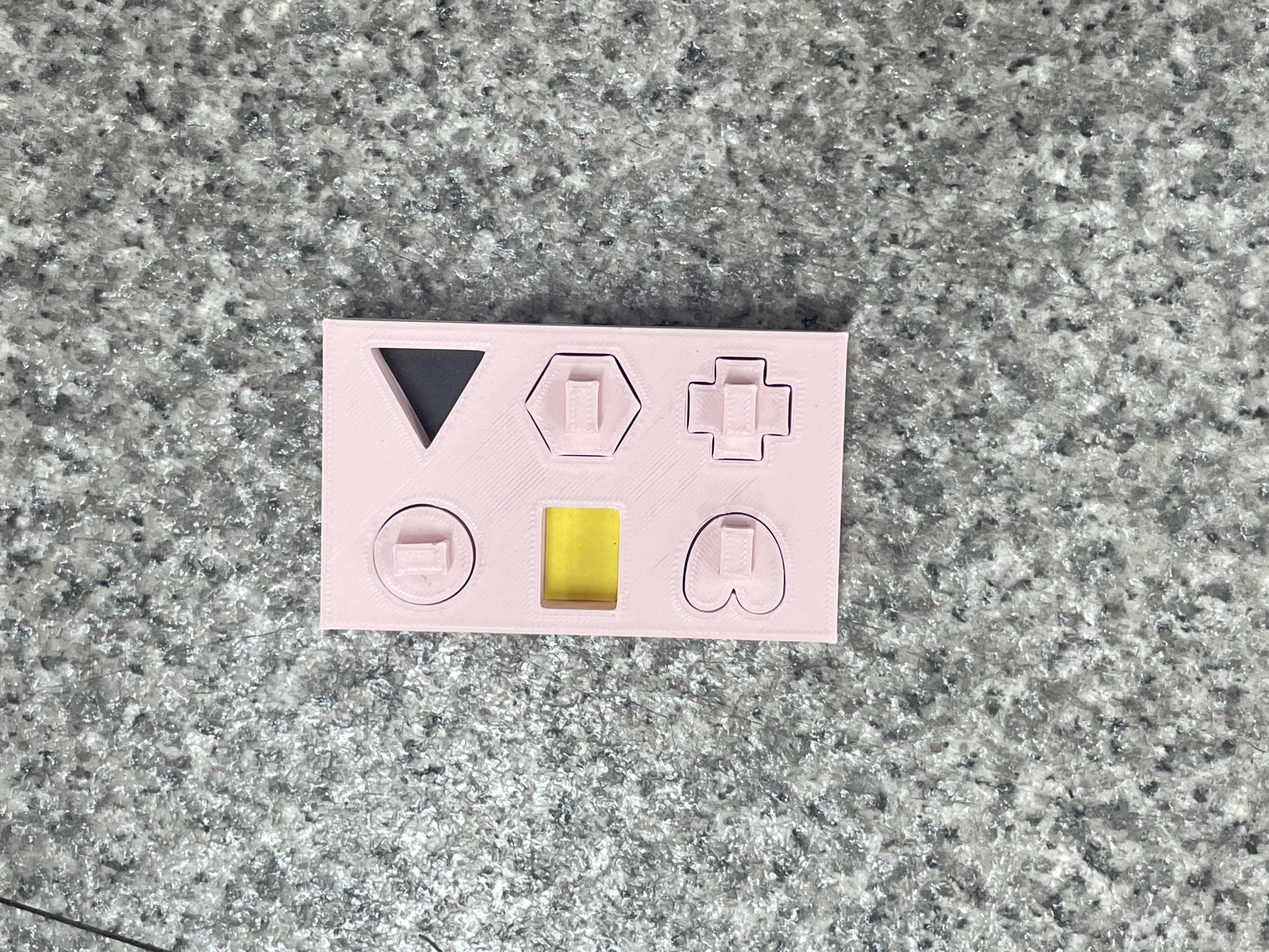unsolved: (318, 315, 854, 651)
